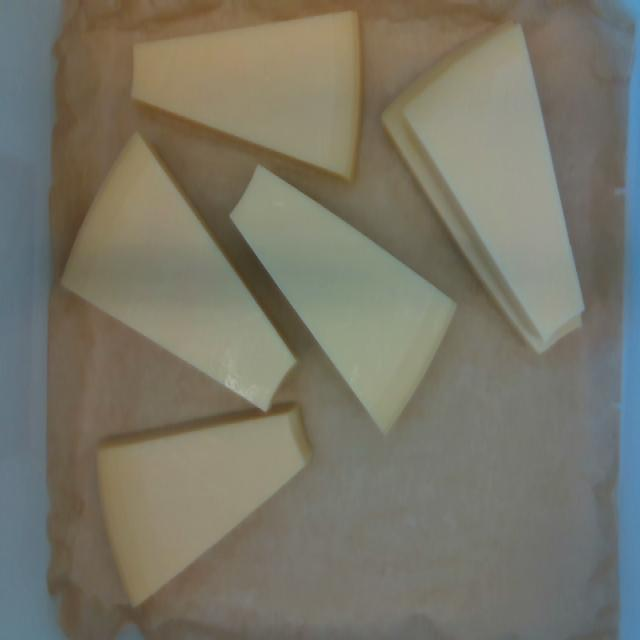cheese: (62, 136, 295, 409), (230, 165, 454, 429), (405, 28, 585, 337), (99, 405, 308, 603), (133, 13, 360, 179)
